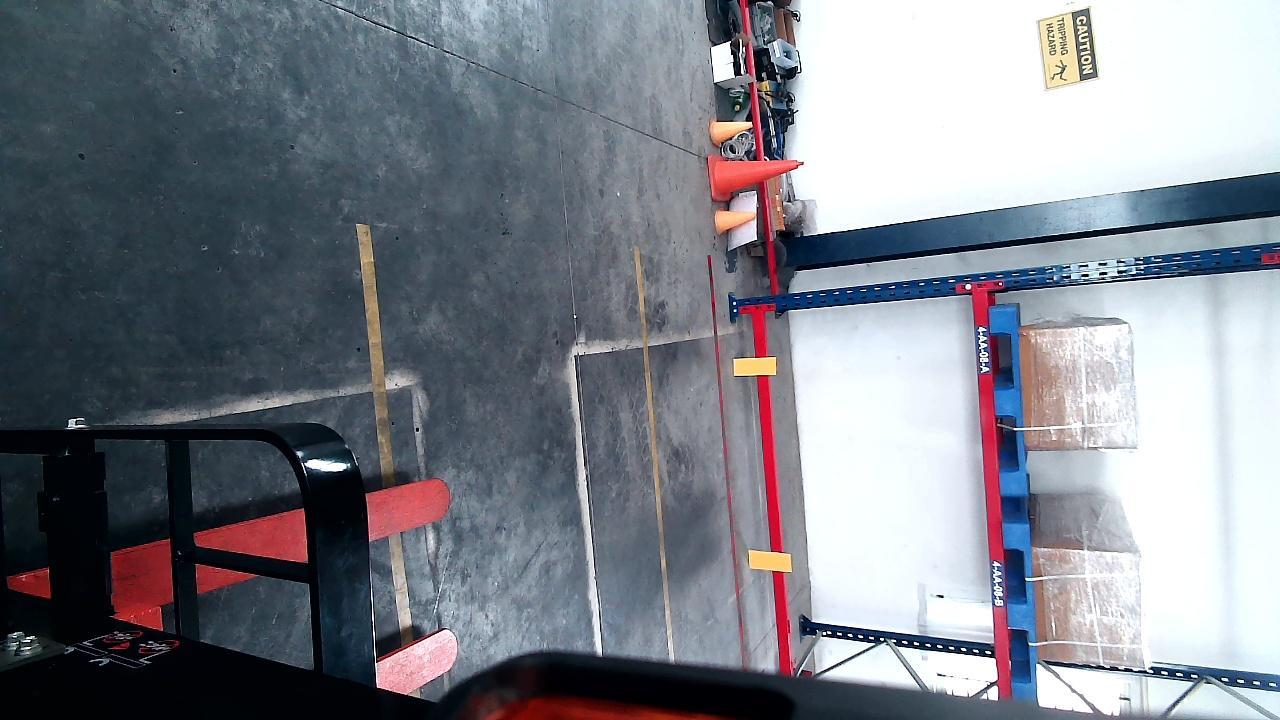red_line: (704, 254, 747, 671)
yellow_line: (361, 217, 411, 636), (633, 254, 675, 663)
